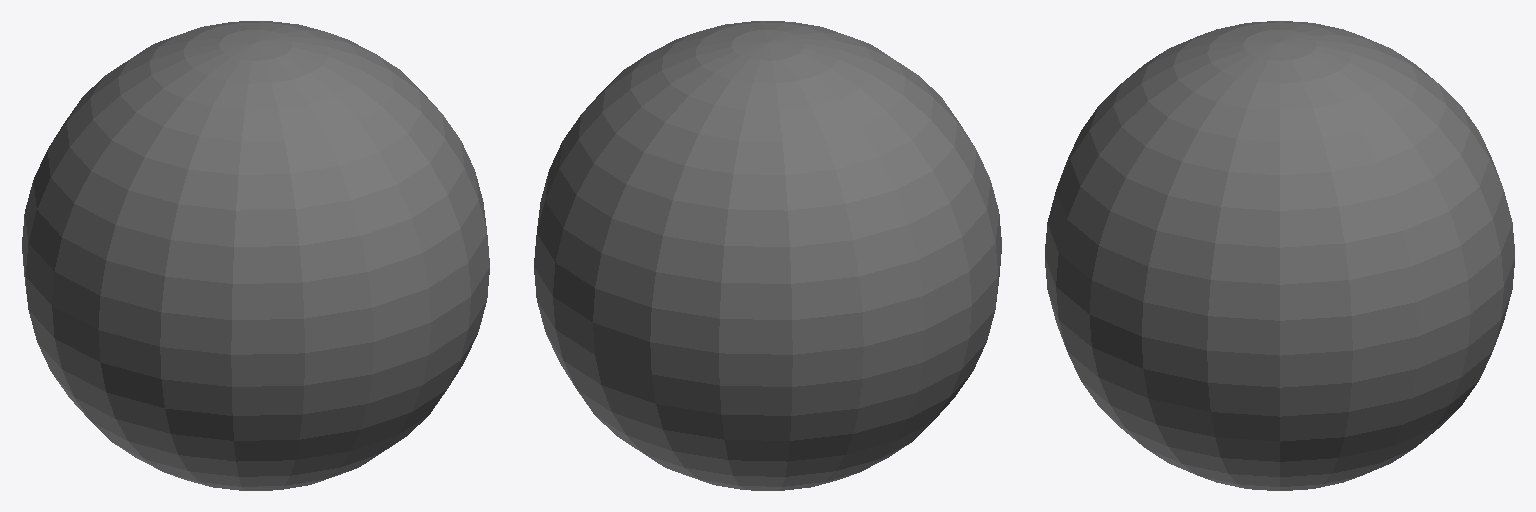
The model's file is Bola.obj.
The picture shows the model from 3 angles: view 1: azimuth 30°, elevation 25°; view 2: azimuth 150°, elevation 25°; view 3: azimuth 270°, elevation 25°; orthographic projection.
Parts seen in each view (by area): view 1: pSphere1; view 2: pSphere1; view 3: pSphere1.
Boxes of the visible parts, <box> form: pSphere1: <box>22,21,489,490</box>; pSphere1: <box>534,21,1001,490</box>; pSphere1: <box>1045,21,1514,490</box>.
Size of the model in its own units: 0.6 by 0.6 by 0.6.